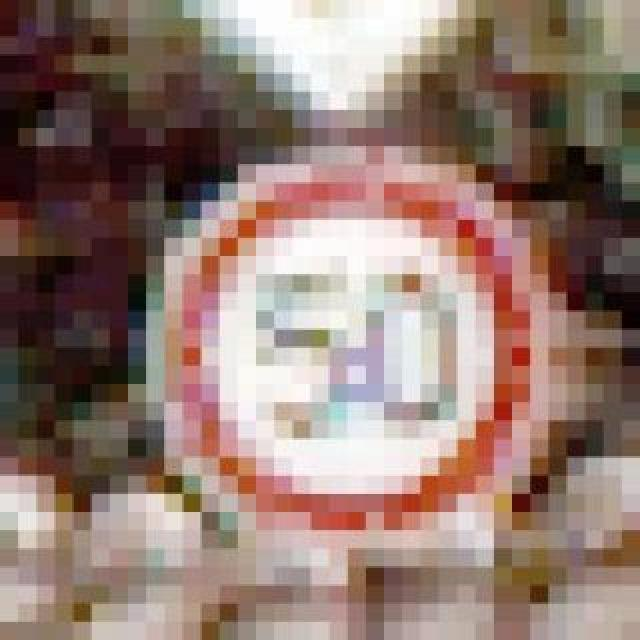50 kph: (128, 128, 530, 548)
